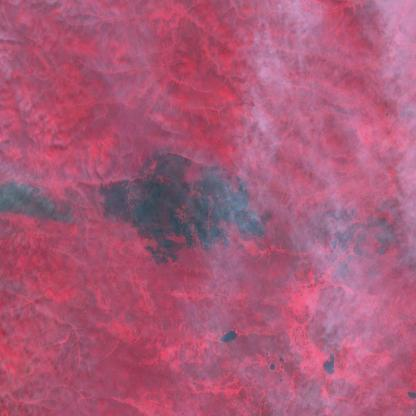fire: (245, 205, 275, 243)
